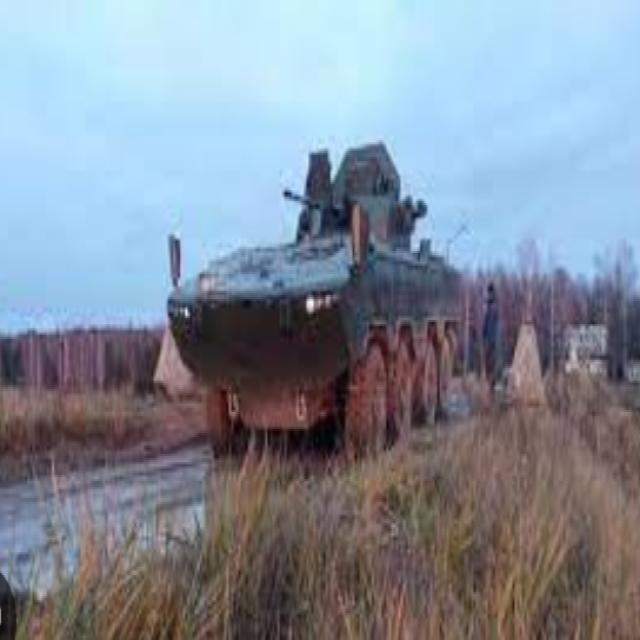MIL_APC: (150, 174, 497, 468)
